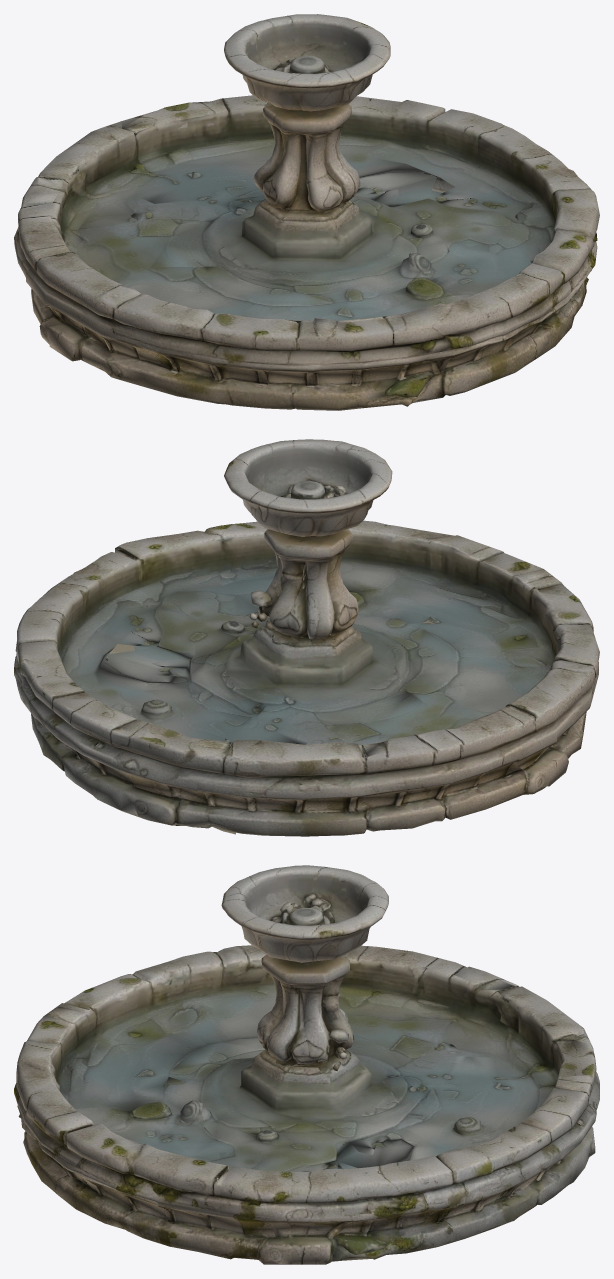
3 renders of one model, top to bottom at view 1: azimuth 30°, elevation 25°; view 2: azimuth 150°, elevation 25°; view 3: azimuth 270°, elevation 25°, orthographic.
Visible parts, largest first — view 1: tripo_node_0b8a029a-deb2-46a3-b579-25cac9f87c4c; view 2: tripo_node_0b8a029a-deb2-46a3-b579-25cac9f87c4c; view 3: tripo_node_0b8a029a-deb2-46a3-b579-25cac9f87c4c.
Part boxes in pixels (x1,y1,x2,y2): tripo_node_0b8a029a-deb2-46a3-b579-25cac9f87c4c: [14, 14, 599, 410]; tripo_node_0b8a029a-deb2-46a3-b579-25cac9f87c4c: [14, 439, 599, 836]; tripo_node_0b8a029a-deb2-46a3-b579-25cac9f87c4c: [14, 865, 599, 1264].
Size of the model in its own units: 1 by 0.4658 by 1.
Materials: 1 (1 with a texture image).
